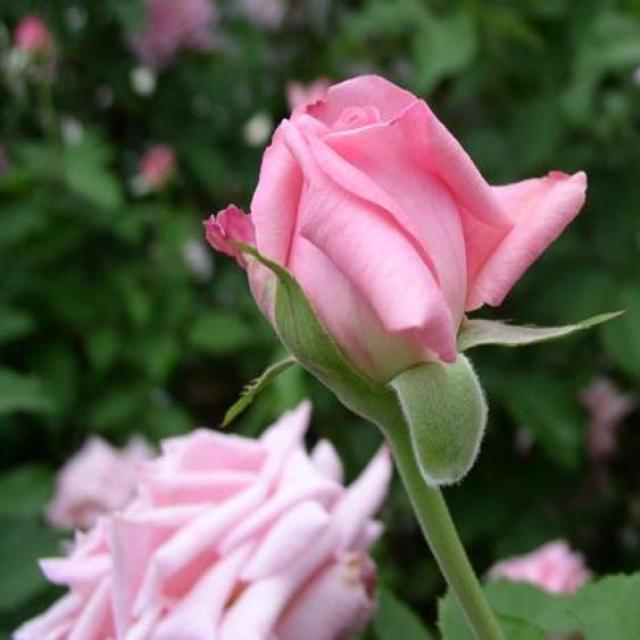rose: (202, 77, 604, 484)
